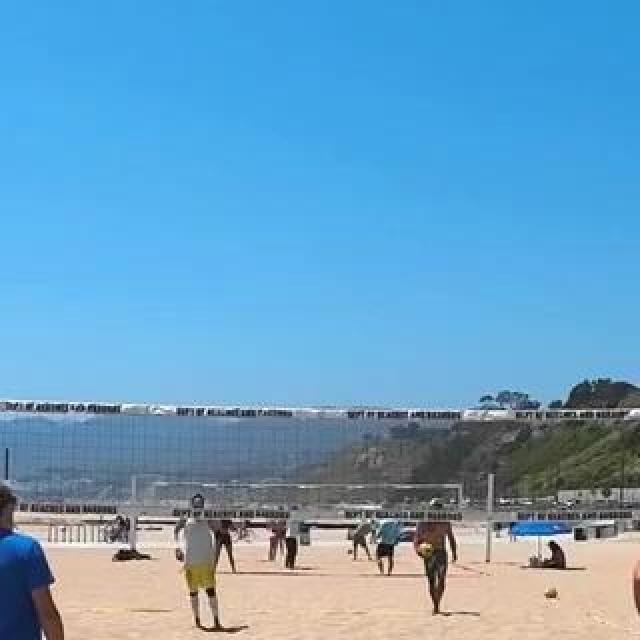volleyball: (418, 542, 434, 558), (546, 586, 558, 600)
